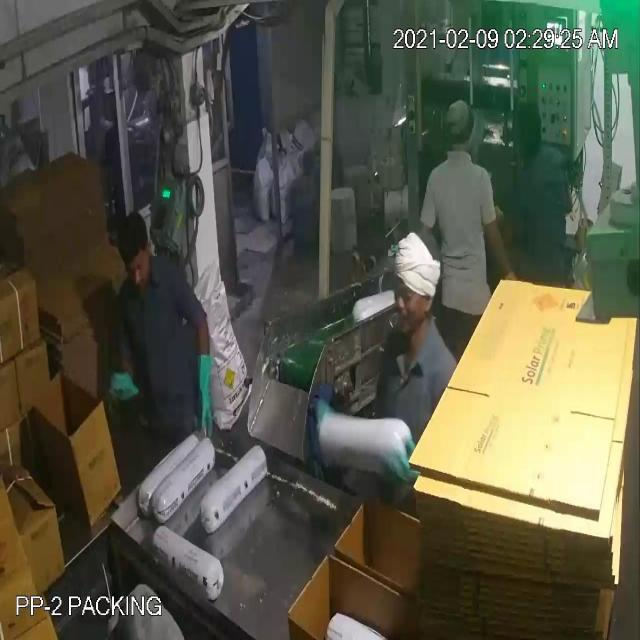Gloves: (40, 58, 503, 394)
